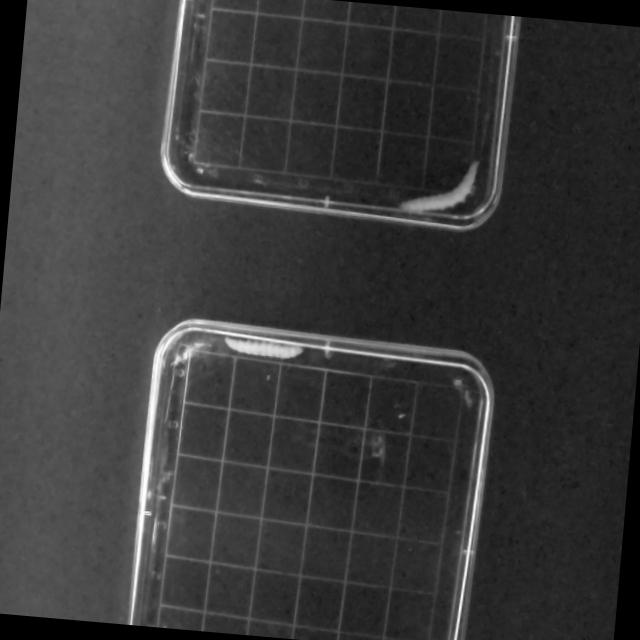larva: (394, 147, 491, 220), (214, 329, 310, 364)
